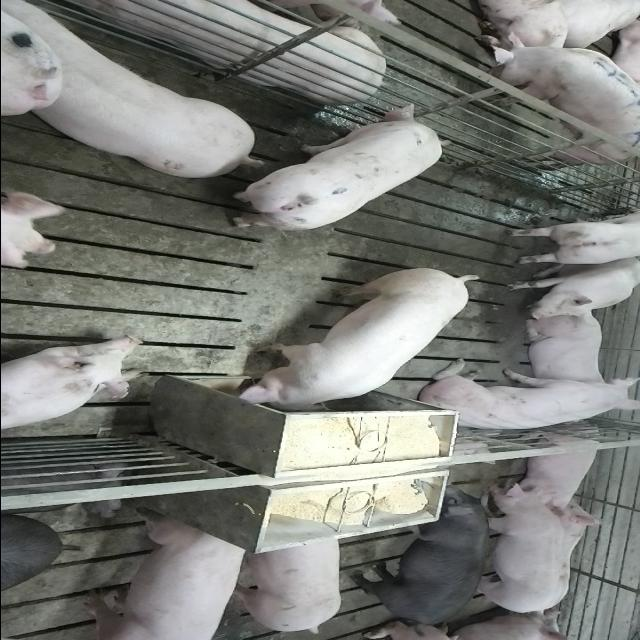Feeding: (231, 271, 479, 421)
Sitting: (410, 363, 636, 436), (501, 258, 639, 320)
Standing: (7, 5, 267, 184), (220, 102, 446, 232), (75, 516, 253, 639), (485, 25, 640, 164), (352, 503, 498, 629), (473, 481, 568, 617), (226, 528, 344, 634), (499, 206, 639, 266)
Sternal_lying: (66, 0, 393, 101), (0, 334, 145, 434), (508, 426, 607, 509), (518, 312, 608, 389)
